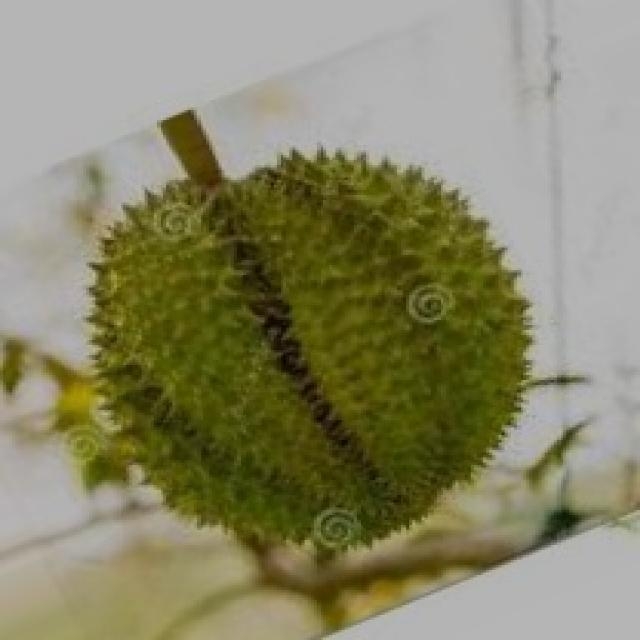fruit: (25, 160, 369, 588), (256, 173, 570, 575)
